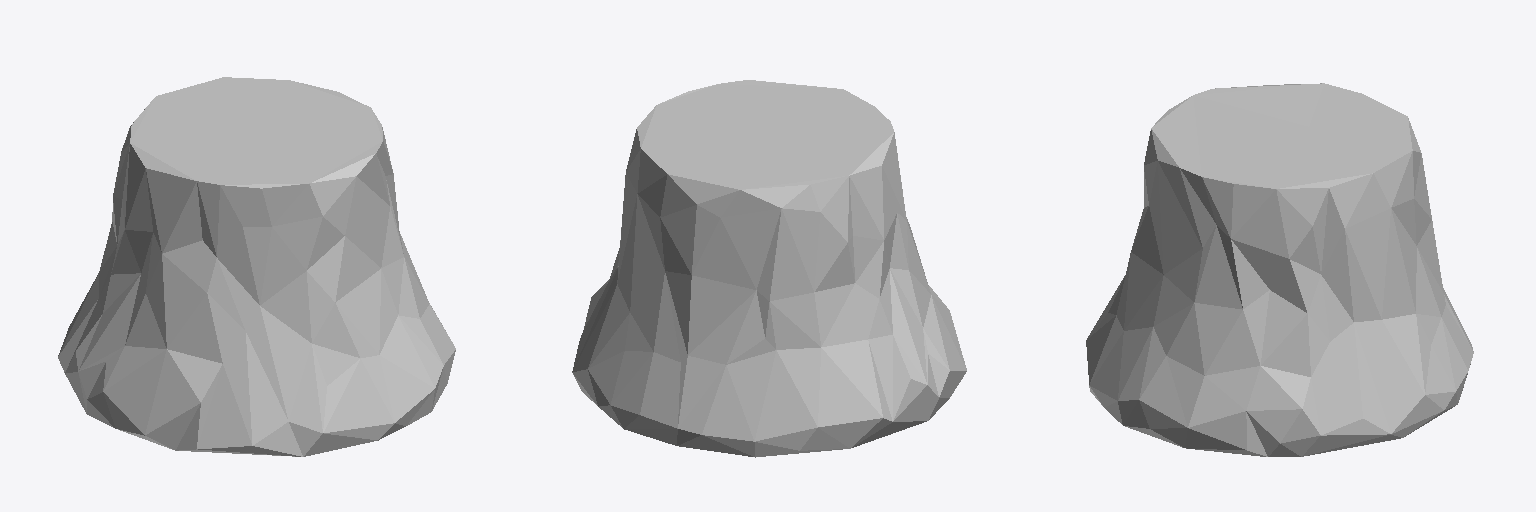
Rendered from tree_trunk_l.obj.
3 renders of one model, left to right at view 1: azimuth 30°, elevation 25°; view 2: azimuth 150°, elevation 25°; view 3: azimuth 270°, elevation 25°, orthographic.
Visible parts, largest first — view 1: tree1:Mesh; view 2: tree1:Mesh; view 3: tree1:Mesh.
Boxes of the visible parts, x1,y1,x2,y2 form: tree1:Mesh: [58, 77, 455, 456]; tree1:Mesh: [572, 80, 966, 457]; tree1:Mesh: [1086, 83, 1473, 456].
Size of the model in its own units: 2.06 by 1.41 by 2.03.